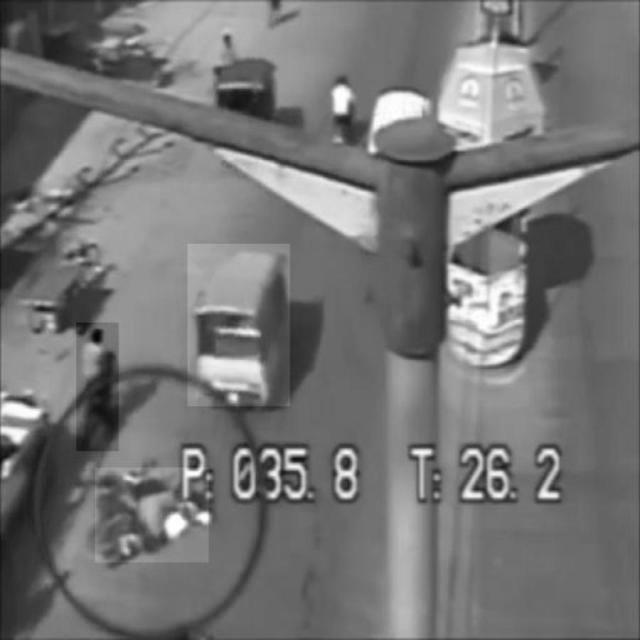vehicle: (188, 244, 290, 406), (96, 468, 209, 562), (77, 323, 119, 451)
